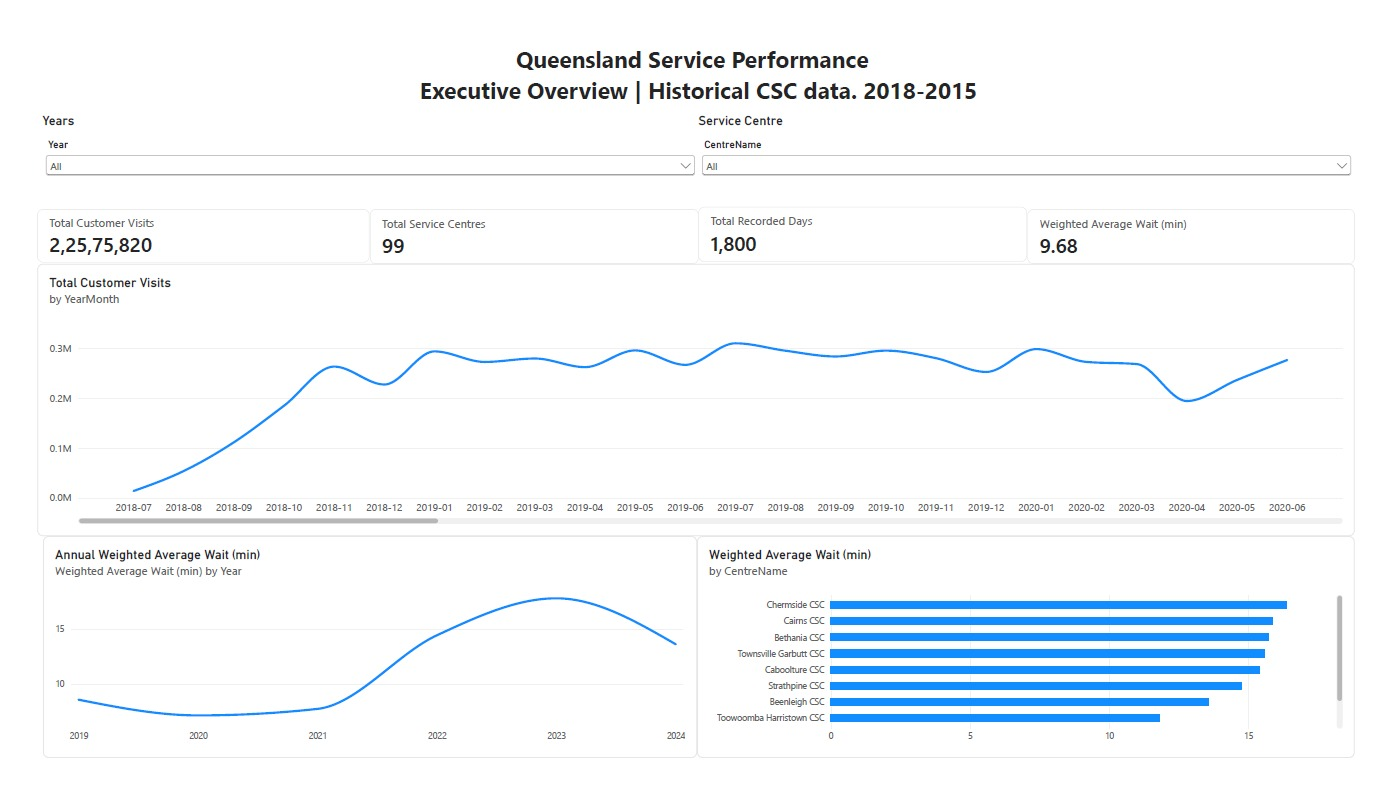

The page's visual inventory and layout, read from the dashboard file:
{"tool":"powerbi","page":{"name":"Executive Overview","canvas":[1920,1080],"ordinal":0},"visuals":[{"type":"cardVisual","fields":{"Data":["FactServicePerformance.Total Customer Visits"]},"box":[30,272.5,467.5,75],"z":0},{"type":"cardVisual","fields":{"Data":["FactServicePerformance.Total Service Centres"]},"box":[497.5,272.5,462.5,77.5],"z":1000},{"type":"cardVisual","fields":{"Data":["FactServicePerformance.Total Recorded Days"]},"box":[960,270,462.5,77.5],"z":2000},{"type":"textbox","box":[36.7,40,1846.7,96.7],"z":3000},{"type":"cardVisual","fields":{"Data":["FactServicePerformance.Weighted Average Wait (min)"]},"box":[1422.5,272.5,460,77.5],"z":4000},{"type":"slicer","title":"Years","fields":{"Values":["DimDate.Year"]},"box":[36.7,136.7,923.3,120],"z":5000},{"type":"slicer","title":"Service Centre","fields":{"Values":["DimCentre.CentreName"]},"box":[960,137.1,922.9,120],"z":6000},{"type":"lineChart","fields":{"Category":["DimDate.YearMonth"],"Y":["FactServicePerformance.Total Customer Visits"]},"box":[30,350,1852.5,382.5],"z":7000},{"type":"clusteredBarChart","fields":{"Category":["DimCentre.CentreName"],"Y":["FactServicePerformance.Weighted Average Wait (min)"]},"box":[957.5,732.5,925,312.5],"z":8000},{"type":"lineChart","title":"Annual Weighted Average Wait (min)","fields":{"Category":["DimDate.Year"],"Y":["FactServicePerformance.Weighted Average Wait (min)"]},"box":[37.5,732.5,920,312.5],"z":9000}]}

Visuals, with their boxes in screenshot pixels (x1, y1, x2, y2), scaled from the page's 1920x1080 canvas onto the 1396x800 screenshot:
cardVisual - FactServicePerformance.Total Customer Visits: 22 202 362 257
cardVisual - FactServicePerformance.Total Service Centres: 362 202 698 259
cardVisual - FactServicePerformance.Total Recorded Days: 698 200 1034 257
textbox: 27 30 1369 101
cardVisual - FactServicePerformance.Weighted Average Wait (min): 1034 202 1369 259
"Years" slicer: 27 101 698 190
"Service Centre" slicer: 698 102 1369 190
lineChart - DimDate.YearMonth x FactServicePerformance.Total Customer Visits: 22 259 1369 543
clusteredBarChart - DimCentre.CentreName x FactServicePerformance.Weighted Average Wait (min): 696 543 1369 774
"Annual Weighted Average Wait (min)" lineChart: 27 543 696 774
